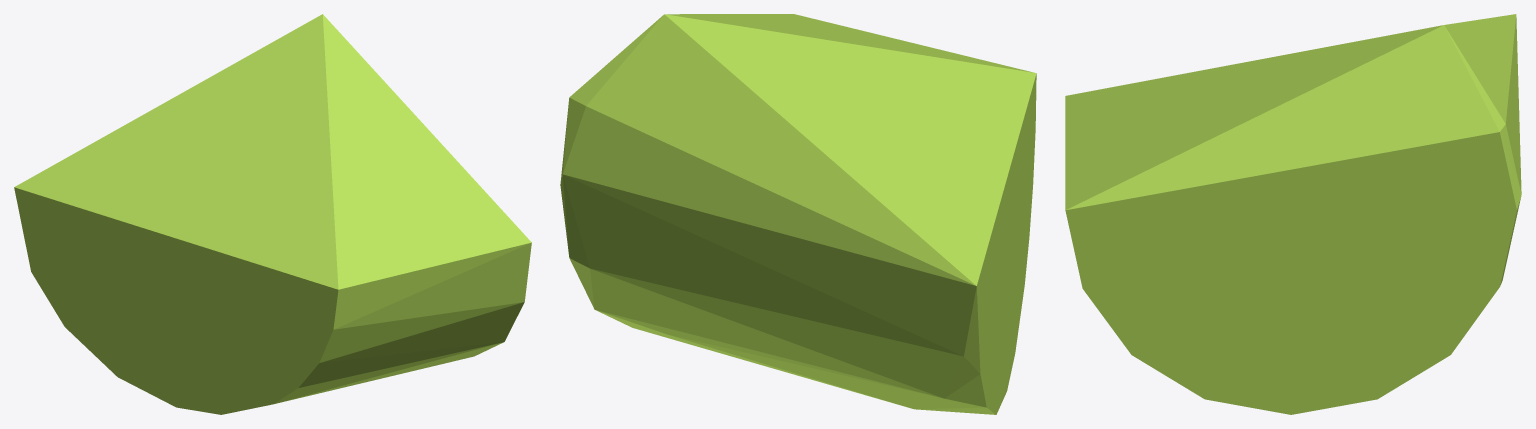
File: industrial_06397_link_2_respondable_respondable_respondable_respondable_respondable_respondable_coll_3.dae
3 renders of one model, left to right at view 1: azimuth 30°, elevation 25°; view 2: azimuth 150°, elevation 25°; view 3: azimuth 270°, elevation 25°, orthographic. The views are drawn at different scales.
Parts seen in each view (by area): view 1: node; view 2: node; view 3: node.
Part boxes in pixels (bbox=[...]): node: bbox=[14, 14, 531, 414]; node: bbox=[560, 14, 1036, 414]; node: bbox=[1065, 14, 1521, 414].
Size of the model in its own units: 0.1193 by 0.1017 by 0.1172.
